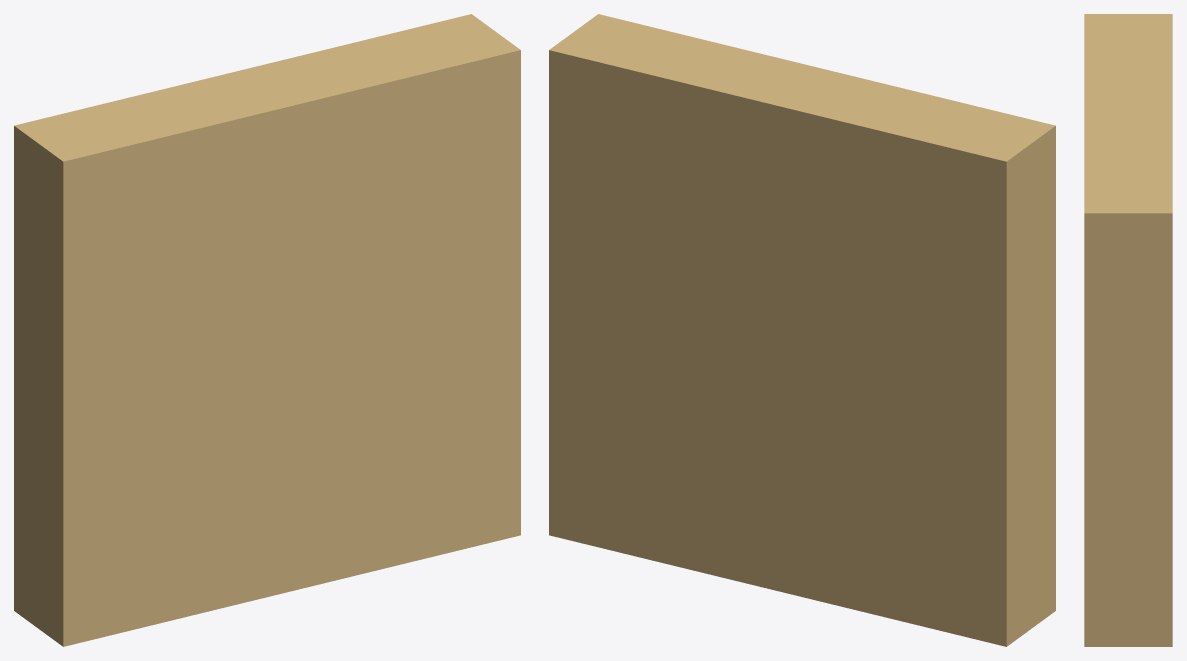
3 renders of one model, left to right at view 1: azimuth 30°, elevation 25°; view 2: azimuth 150°, elevation 25°; view 3: azimuth 270°, elevation 25°, orthographic. The views are drawn at different scales.
Parts seen in each view (by area): view 1: GF-L12-BLK-SUP-B3-S1-038; view 2: GF-L12-BLK-SUP-B3-S1-038; view 3: GF-L12-BLK-SUP-B3-S1-038.
Boxes of the visible parts, x1,y1,x2,y2 form: GF-L12-BLK-SUP-B3-S1-038: (14,14,520,646); GF-L12-BLK-SUP-B3-S1-038: (549,14,1055,646); GF-L12-BLK-SUP-B3-S1-038: (1084,14,1172,646).
Size of the model in its own units: 0.1875 by 0.19 by 0.035.
